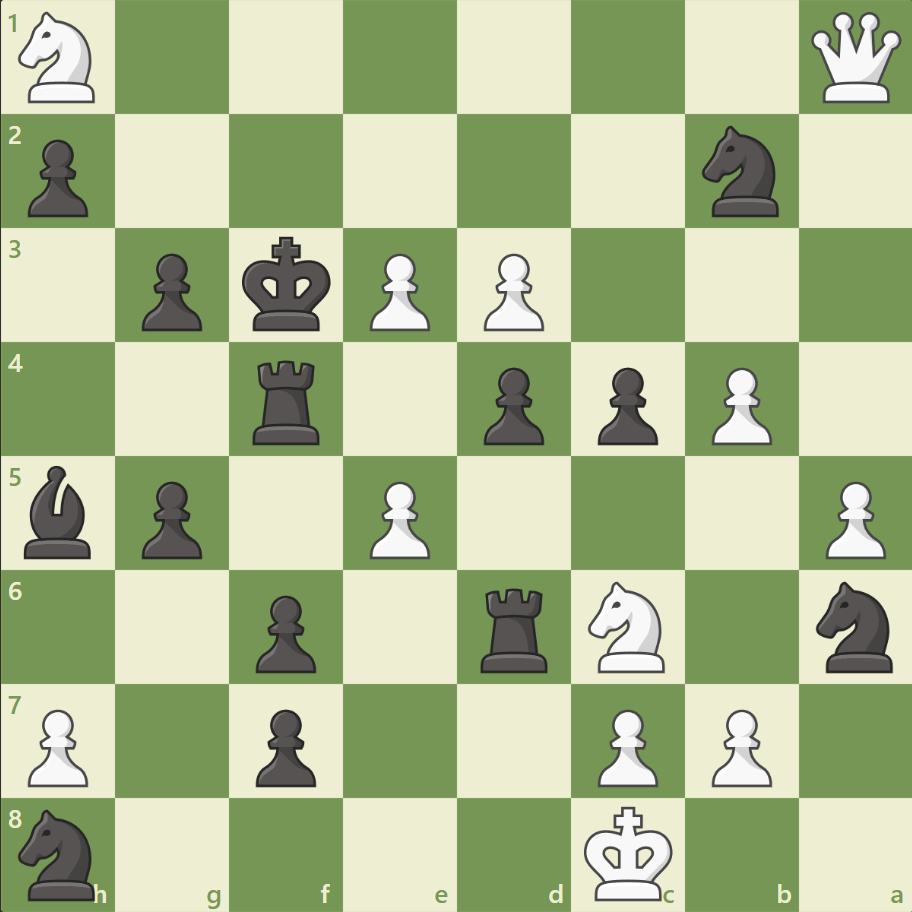K: (579, 798, 679, 906)
N: (11, 7, 108, 110), (579, 575, 676, 677)
P: (701, 700, 776, 791), (20, 700, 95, 791), (701, 359, 776, 450), (474, 246, 549, 337), (588, 700, 662, 791), (815, 473, 889, 564), (361, 473, 435, 564), (361, 246, 435, 337)
Q: (805, 9, 904, 108)
b: (17, 460, 101, 563)
k: (238, 231, 338, 339)
n: (11, 802, 108, 904), (806, 575, 903, 677), (692, 121, 789, 223)
p: (247, 700, 322, 791), (247, 586, 322, 677), (133, 473, 208, 564), (474, 359, 549, 450), (133, 246, 208, 337), (20, 132, 95, 223), (588, 359, 662, 450)
r: (473, 579, 556, 676), (246, 352, 329, 449)
